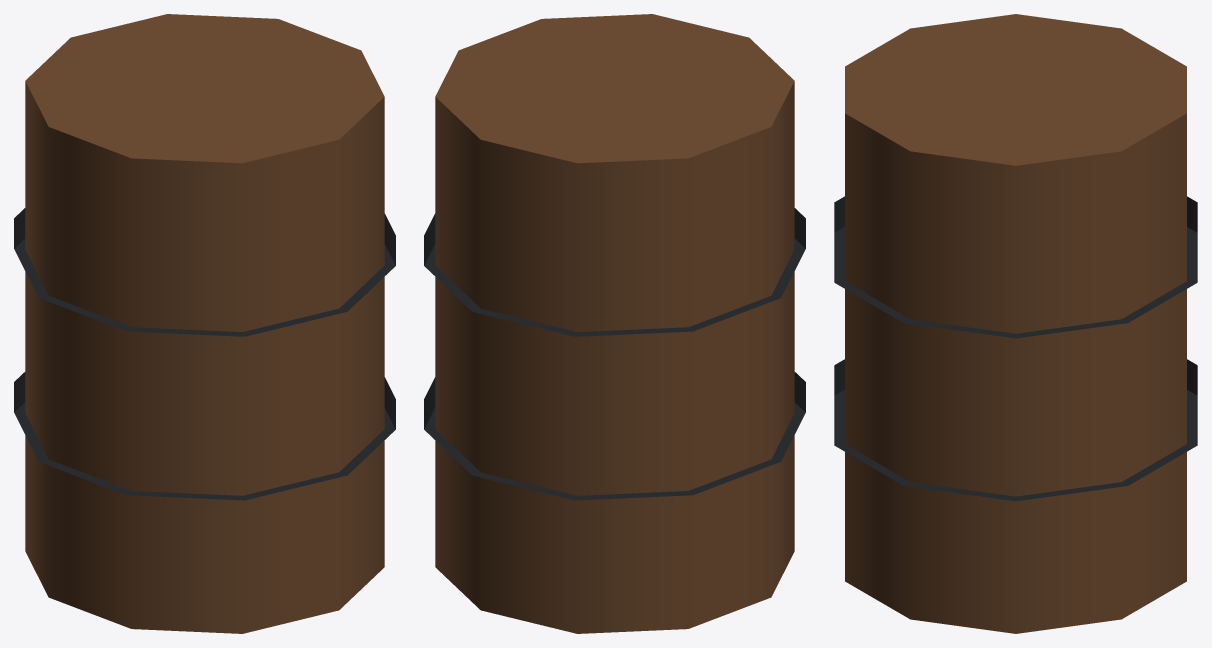
The model's file is fuel_drum.glb.
3 views of the same model, side by side, from view 1: azimuth 30°, elevation 25°; view 2: azimuth 150°, elevation 25°; view 3: azimuth 270°, elevation 25° (orthographic).
Parts seen in each view (by area): view 1: Body; view 2: Body; view 3: Body.
Boxes of the visible parts, left/top/right/bottom form: Body: left=14, top=14, right=395, bottom=633; Body: left=424, top=14, right=805, bottom=633; Body: left=834, top=14, right=1197, bottom=633.
Size of the model in its own units: 0.68 by 0.92 by 0.6467.
